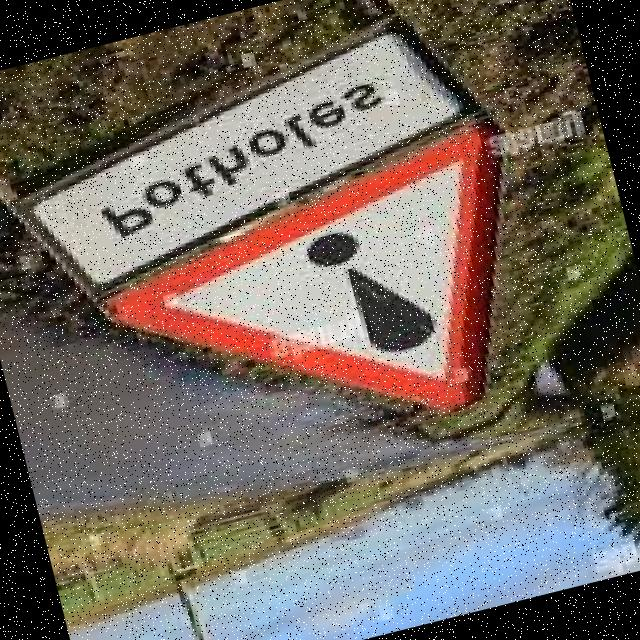warning: (85, 124, 578, 495)
